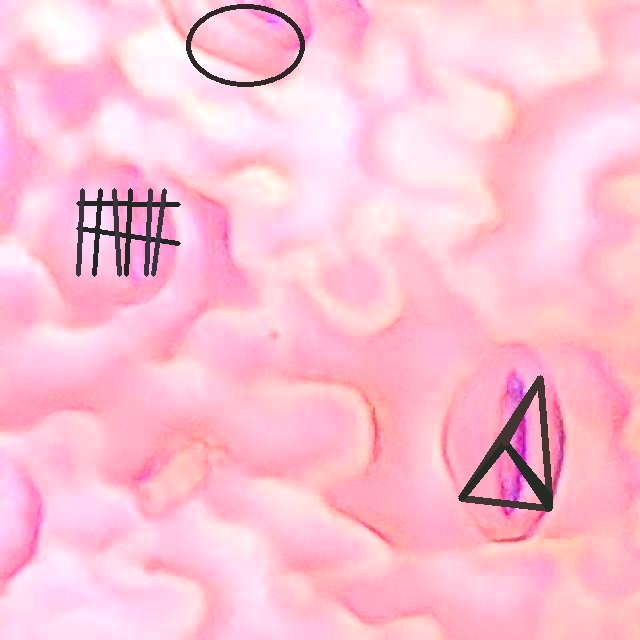open: (458, 375, 552, 511), (186, 2, 304, 87), (77, 188, 179, 276)
